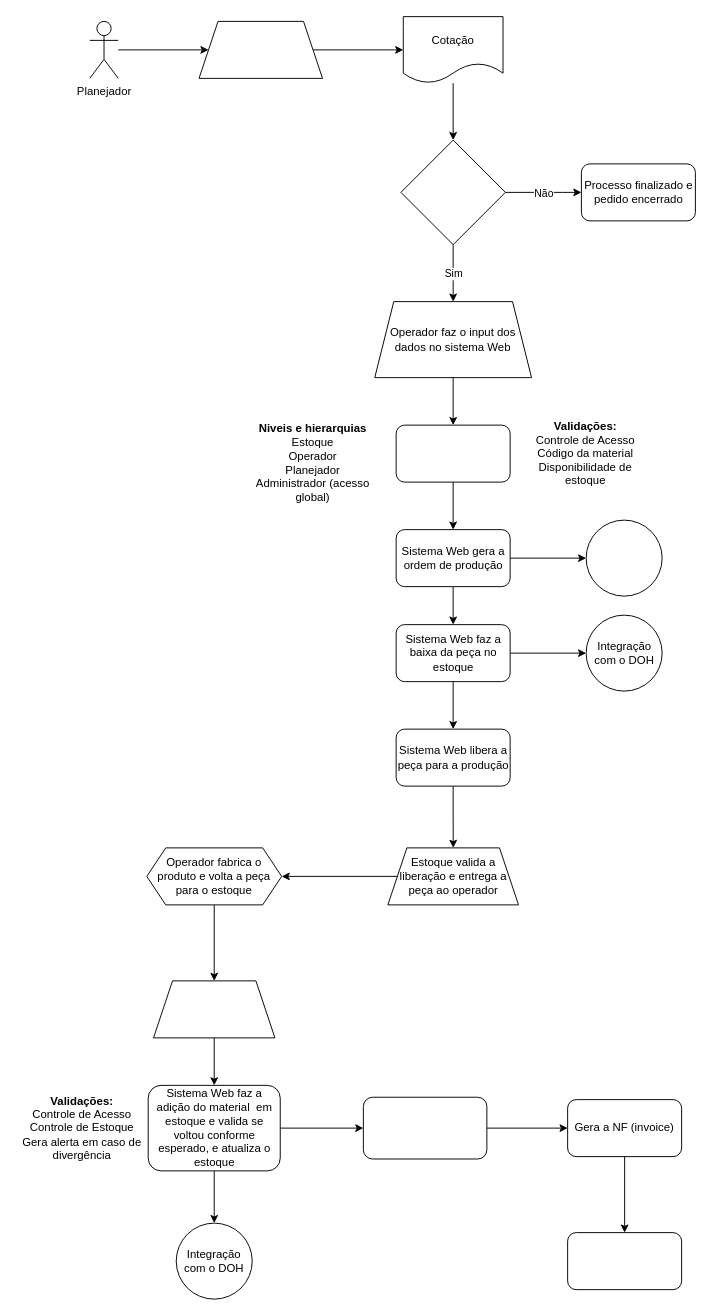
The diagram is 713 pixels wide and 1316 high, and some of its shapes have lost their labels. The shapes that lost their labels are listed below. From the top down, each one's centre as x and y in pixels, then its label:
pixel 260 49: Gera a cotação no EcoCalc
pixel 452 192: Aprovado?
pixel 452 453: Sistema Web faz a validação
pixel 623 557: Integração com o COH
pixel 214 1009: Estoque valida e devolve a peça ao estoque
pixel 424 1127: Sistema Web gera as etiquetas
pixel 624 1261: Finaliza o processo
